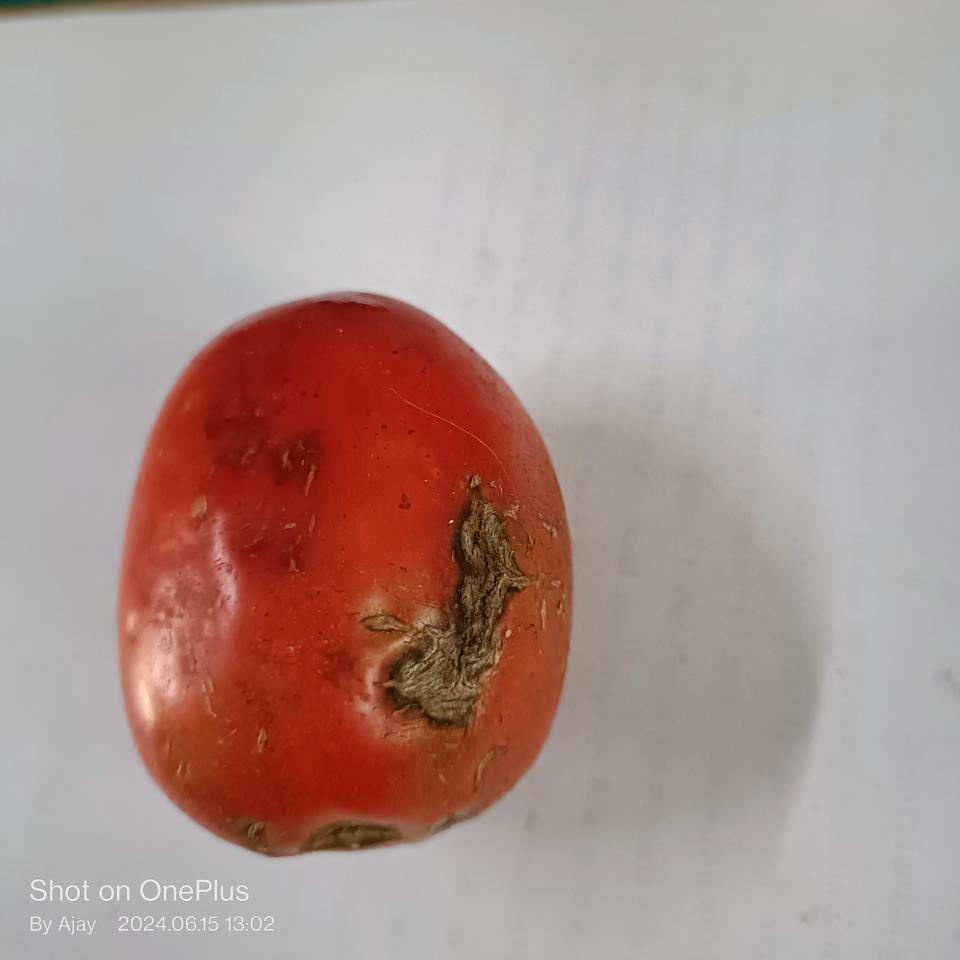Bacterial_Spot: (448, 476, 522, 702), (356, 614, 436, 726), (296, 822, 391, 848), (238, 818, 272, 845)
